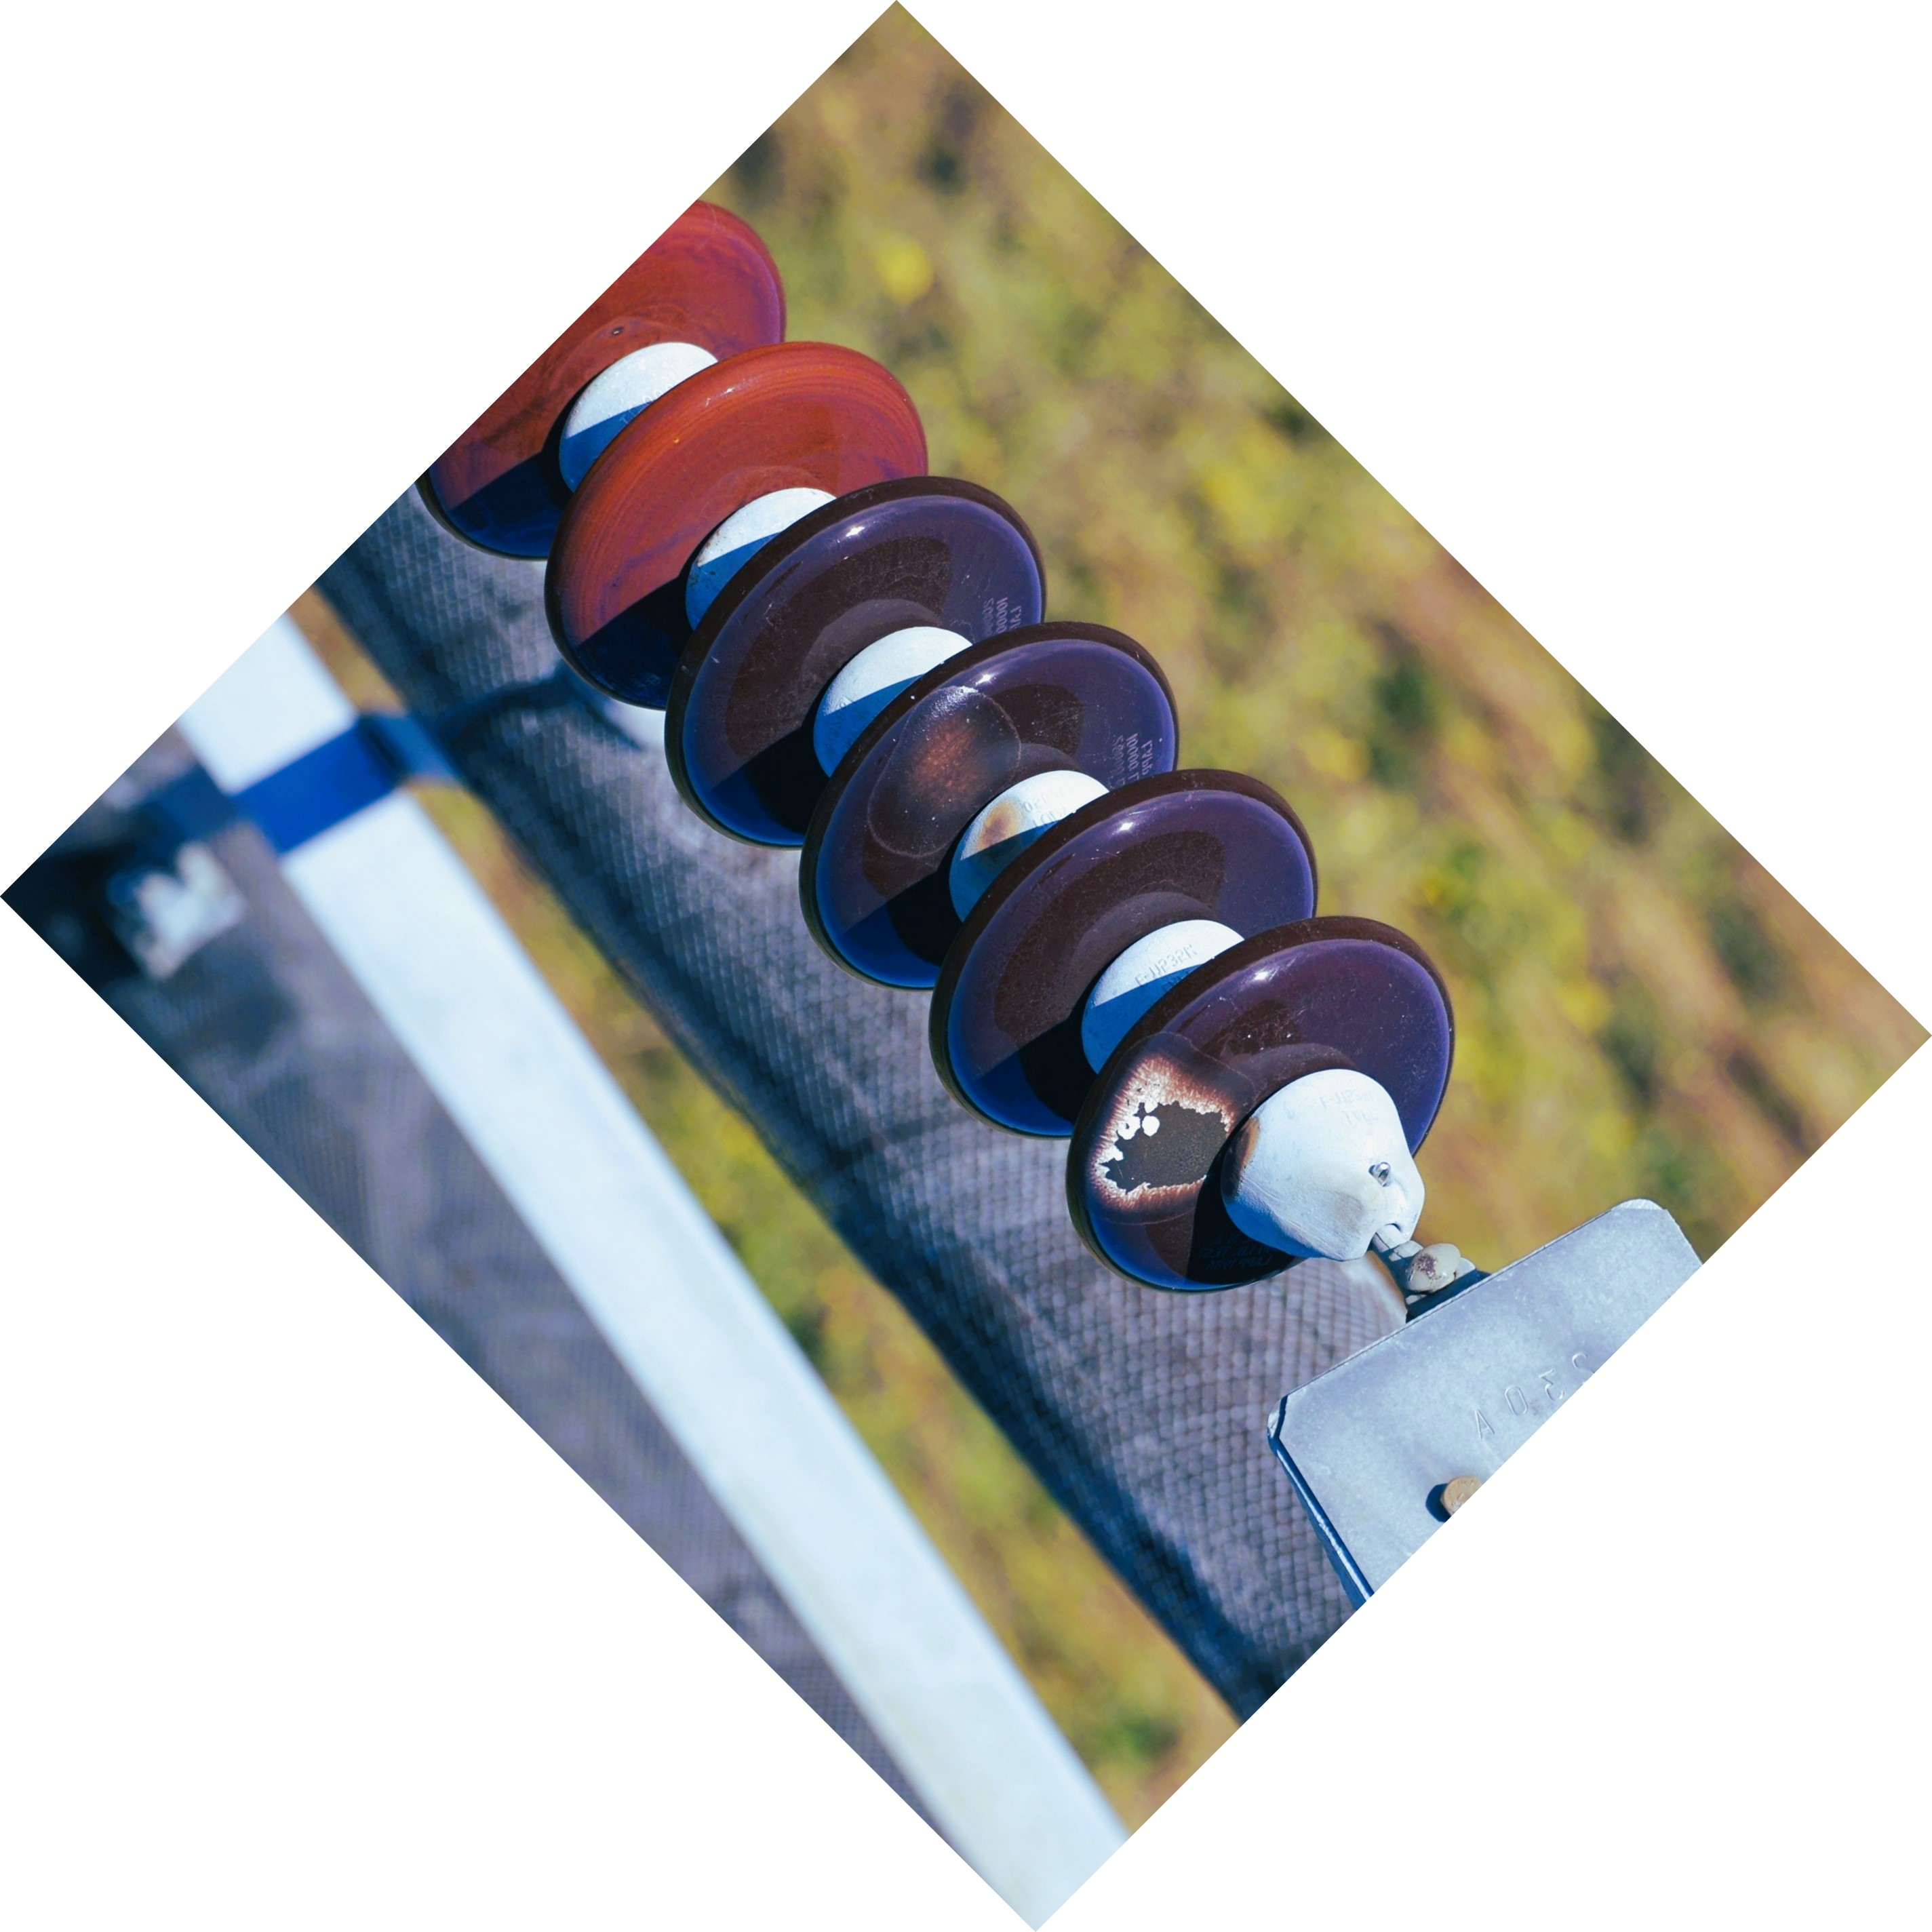Insulator flashover: (1054, 909, 1472, 1316)
